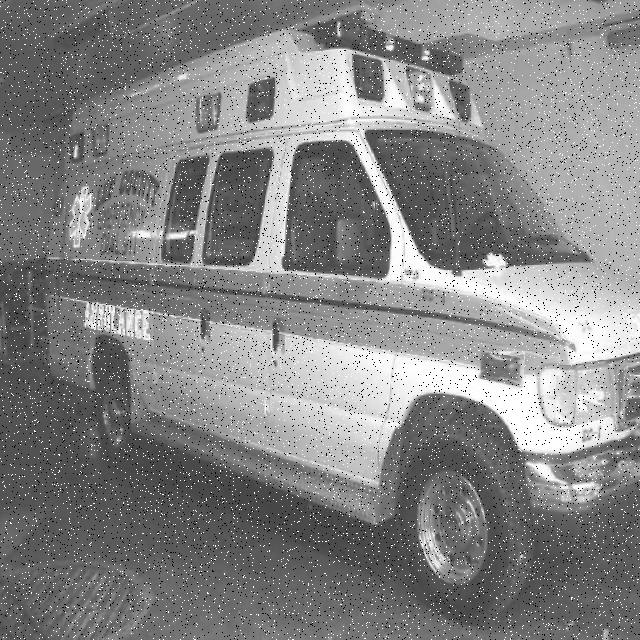Ambulance: (44, 23, 640, 630)
